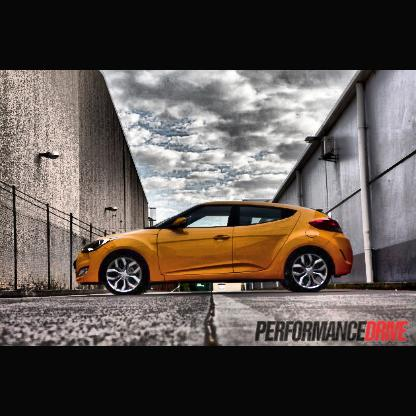Hyundai Veloster Hatchback 2012: (72, 197, 365, 299)
